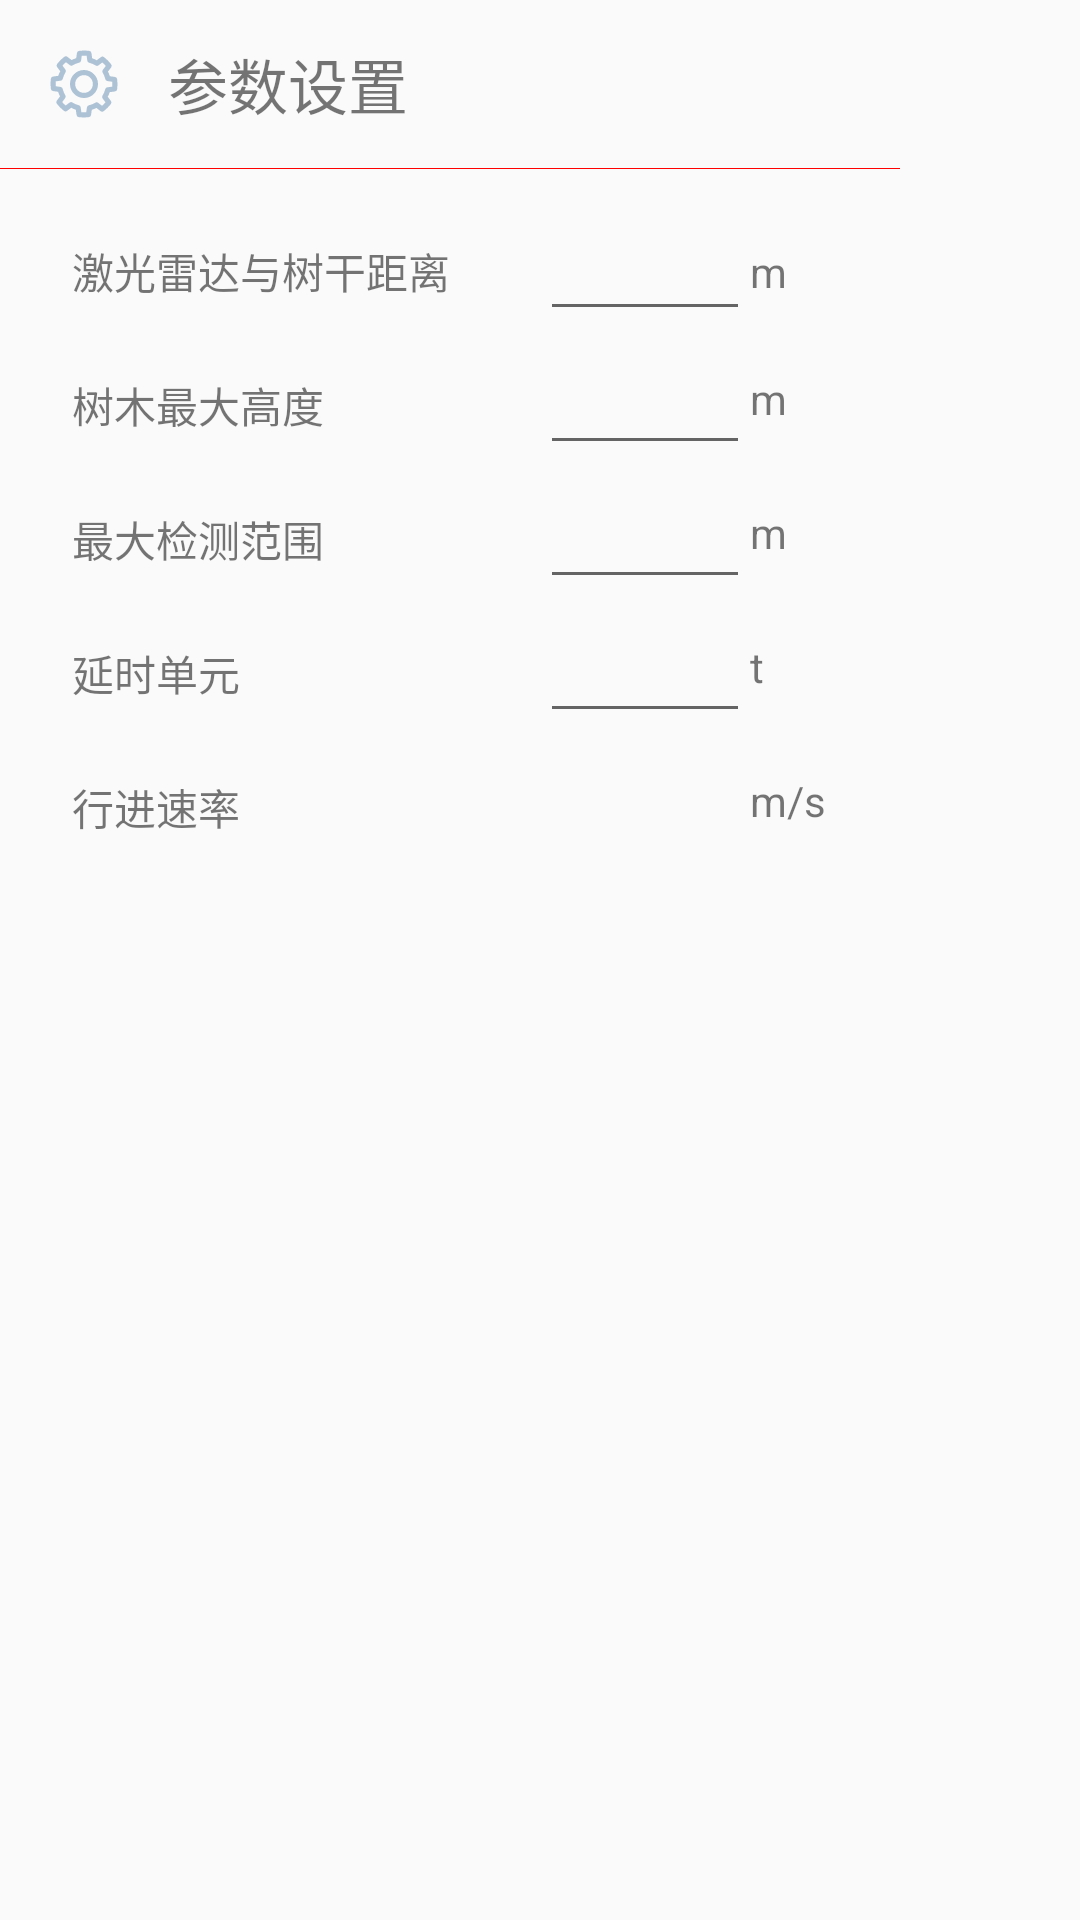

Where icons sit on this 1080*1920 app screen, as (x1,y1,x2,y2):
setting: (50,50,118,118)
